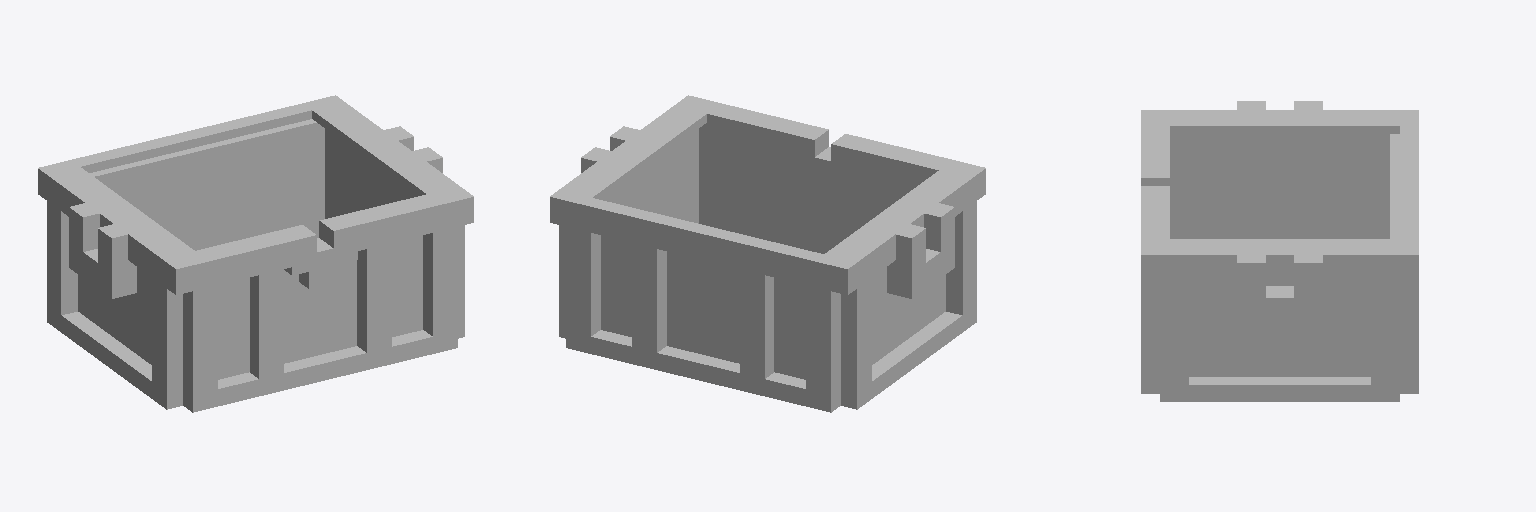
File: chest.obj
3 renders of one model, left to right at view 1: azimuth 30°, elevation 25°; view 2: azimuth 150°, elevation 25°; view 3: azimuth 270°, elevation 25°, orthographic.
Visible parts, largest first — view 1: object 1; view 2: object 1; view 3: object 1.
Boxes of the visible parts, x1,y1,x2,y2 form: object 1: [38, 95, 473, 412]; object 1: [550, 95, 985, 412]; object 1: [1141, 101, 1418, 401].
Bounding box in the file's own units: 4 × 1.7 × 2.9.